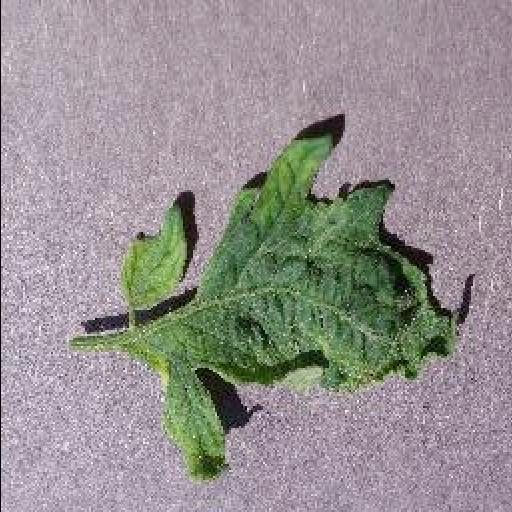Mosaic Virus: (118, 130, 458, 488)
